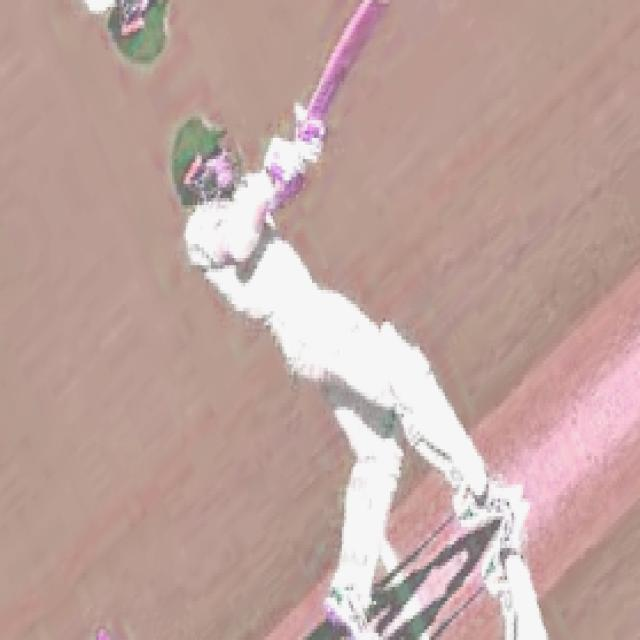toe: (367, 0, 395, 14)
